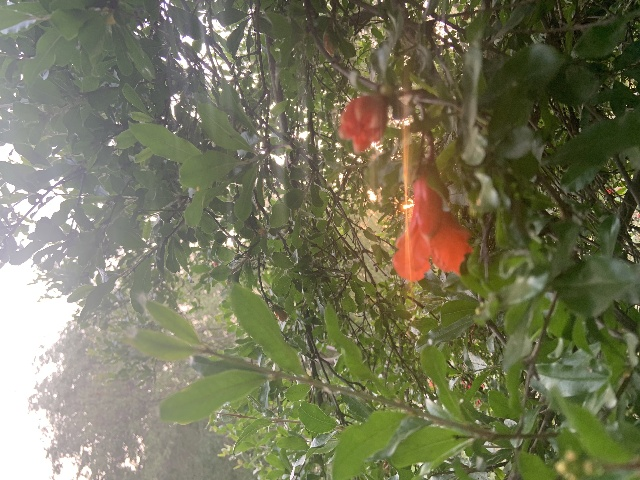flower: (393, 176, 473, 281), (337, 94, 388, 153)
